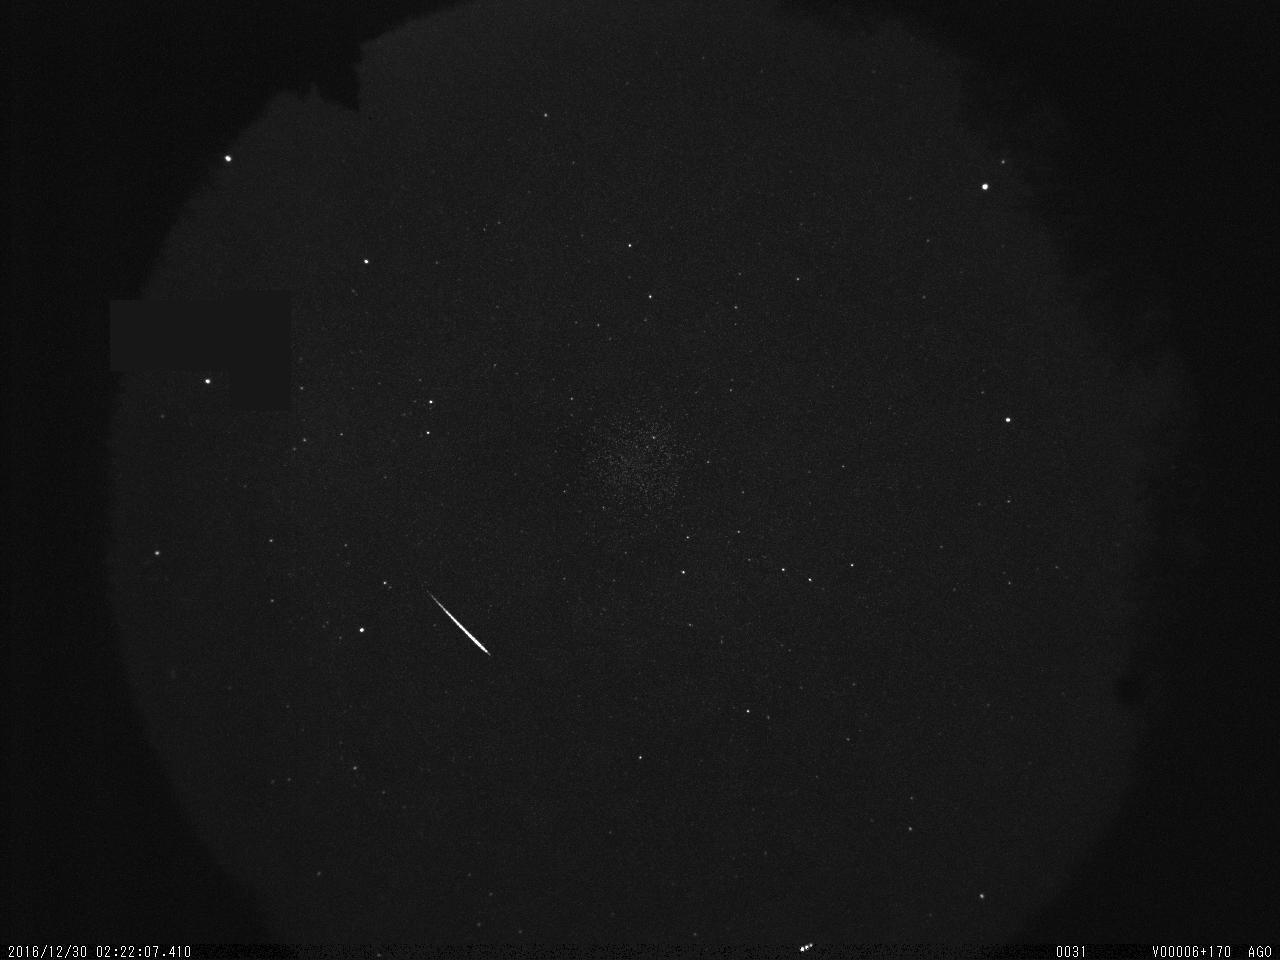meteor: (393, 577, 511, 670)
